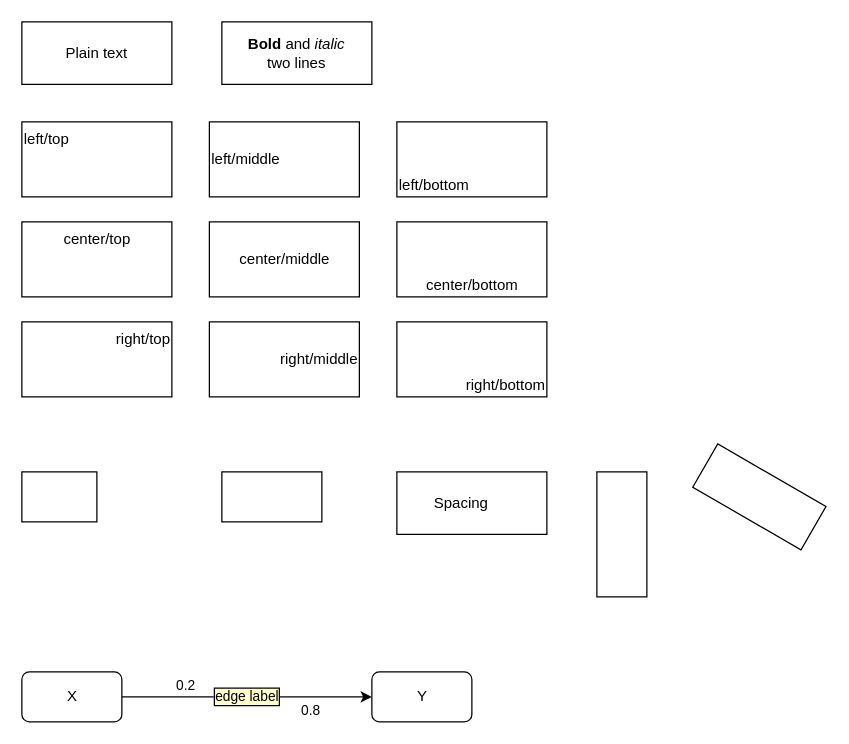
Image size: 849x744. Some labels were removed from this diagram. Each missing label, with the box of its shape:
A long label that must wrap onto several lines: (221, 471, 322, 522)
outside: (21, 471, 97, 522)
Rotated: (691, 442, 826, 550)
Vertical: (596, 471, 647, 597)
